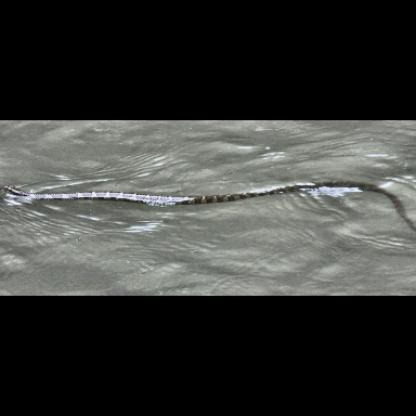Snake: (2, 160, 416, 234)
